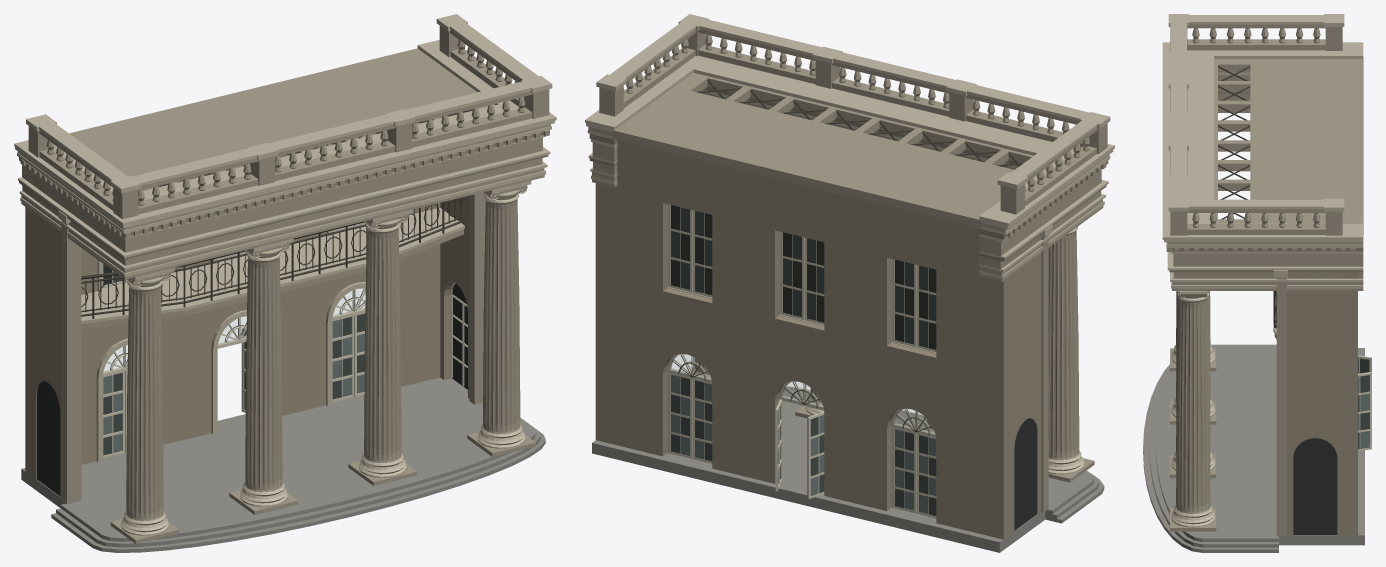
The model's file is jingan-ho-tung-residence-garden-portico-lod.glb.
3 renders of one model, left to right at view 1: azimuth 30°, elevation 25°; view 2: azimuth 150°, elevation 25°; view 3: azimuth 270°, elevation 25°, orthographic. The views are drawn at different scales.
Visible parts, largest first — view 1: 何东上海公馆花园侧四柱门廊; view 2: 何东上海公馆花园侧四柱门廊; view 3: 何东上海公馆花园侧四柱门廊.
Part boxes in pixels (x1,y1,x2,y2): 何东上海公馆花园侧四柱门廊: (14,14,556,552); 何东上海公馆花园侧四柱门廊: (585,14,1114,552); 何东上海公馆花园侧四柱门廊: (1143,14,1371,552).
Bounding box in the file's own units: 11.06 × 8.68 × 5.28.
